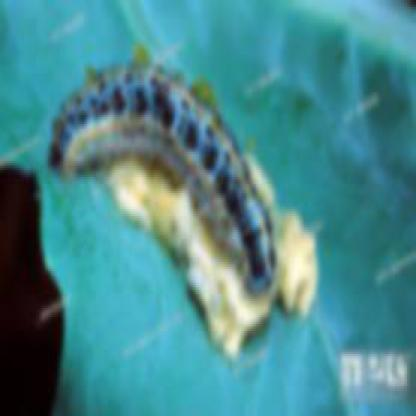pieris: (52, 69, 277, 297)
